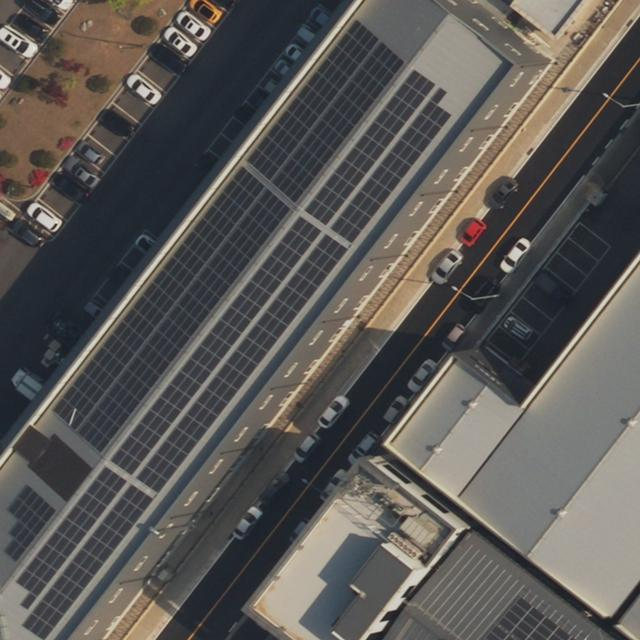solarpanel: (72, 187, 294, 456), (50, 164, 263, 429), (133, 233, 348, 494), (109, 217, 320, 478), (242, 19, 381, 183), (268, 41, 406, 204), (302, 70, 435, 226), (331, 88, 461, 245), (21, 485, 152, 640), (11, 467, 127, 611), (4, 480, 56, 564)
